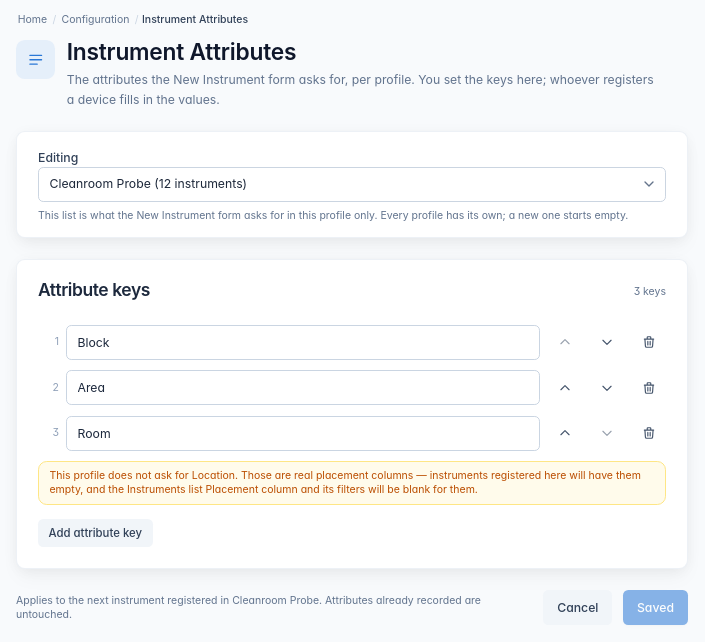
Test: InstrumentAttributesConfigPage — placement advisory › does not warn when all three placement keys are present
The width and height of the screenshot is (705, 642).
Select "Full Placement (1 instrument)" in the dropdown labelled "Editing" at (352, 184), box top-left (38, 167), bottom-right (666, 202)
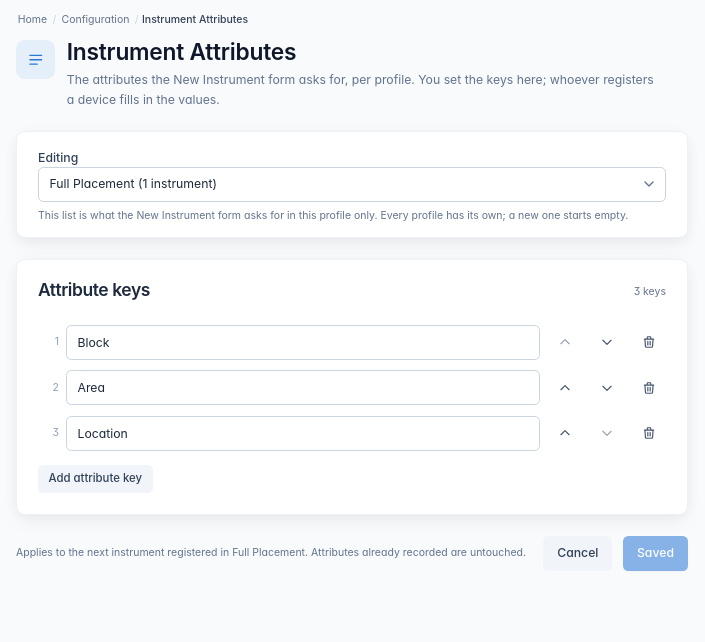
Expected: the text "placement columns" is gone
